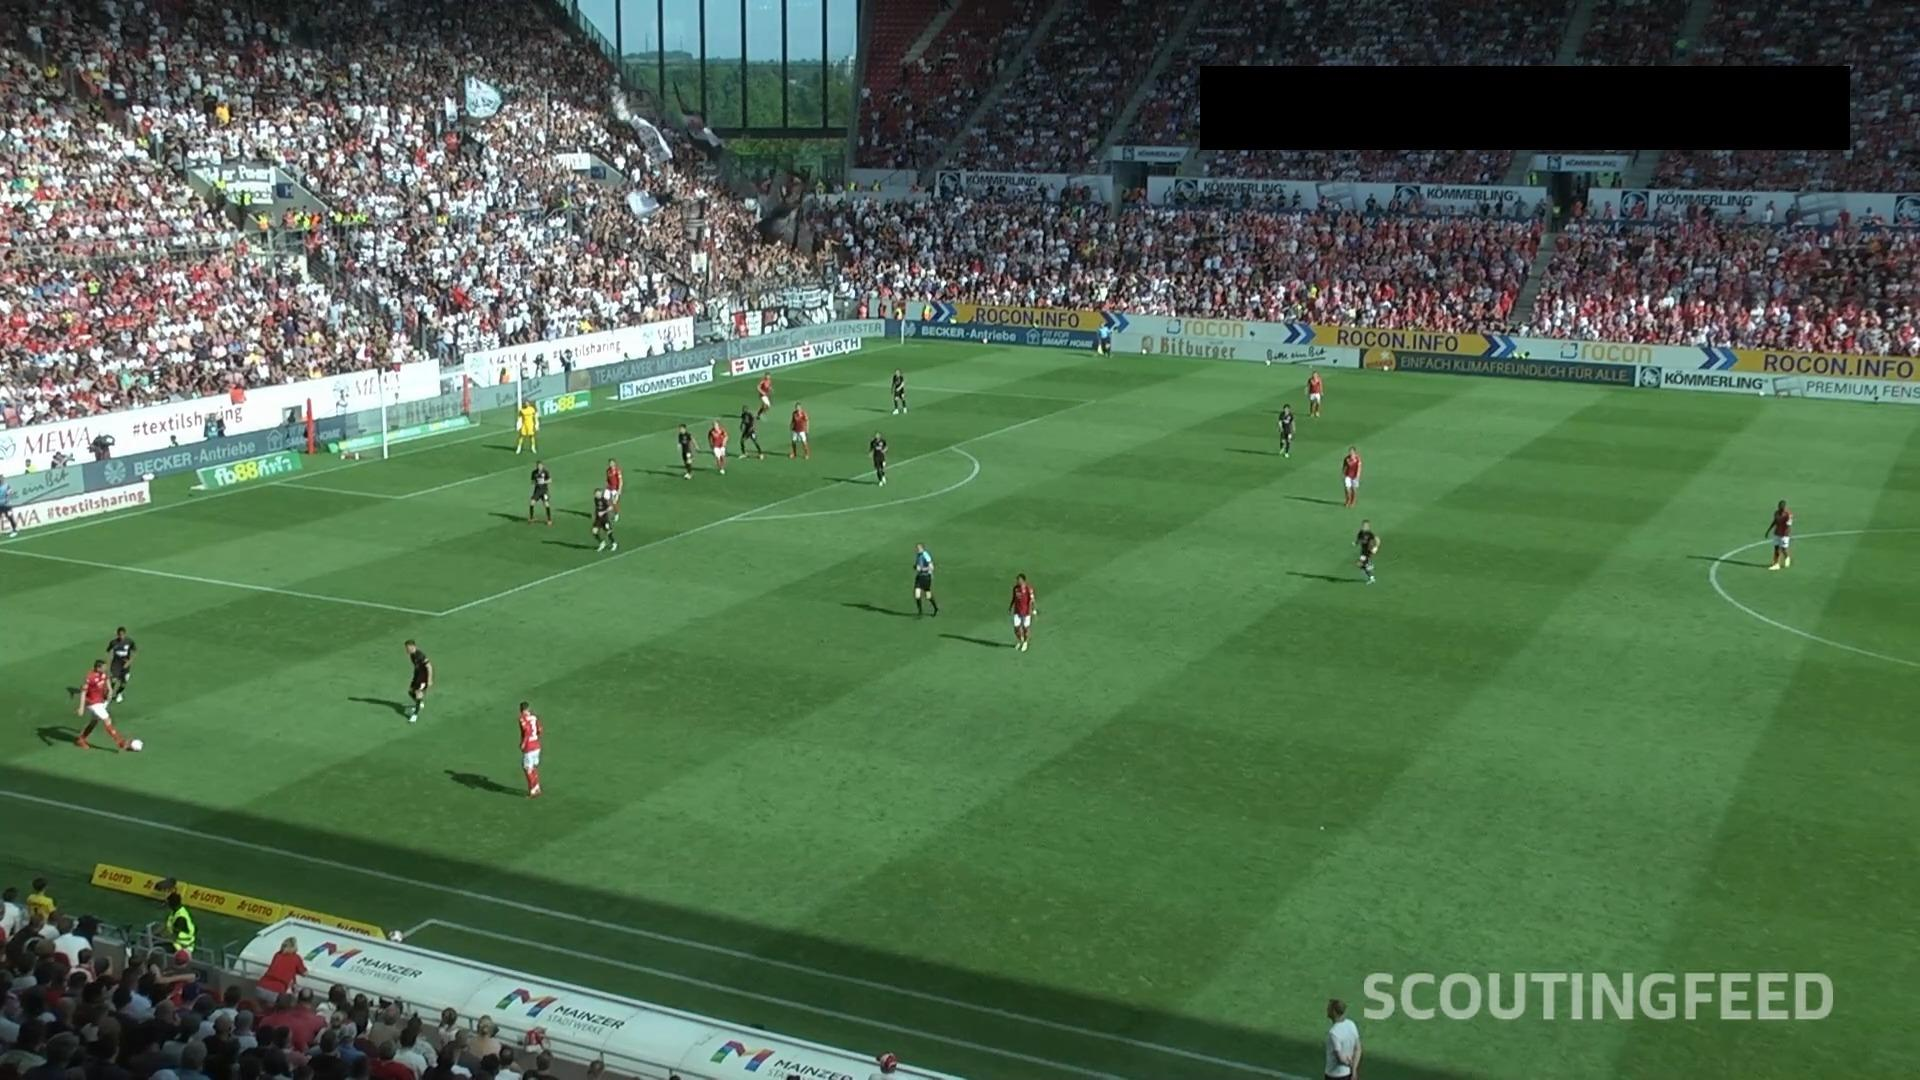ball: (131, 738, 145, 753)
